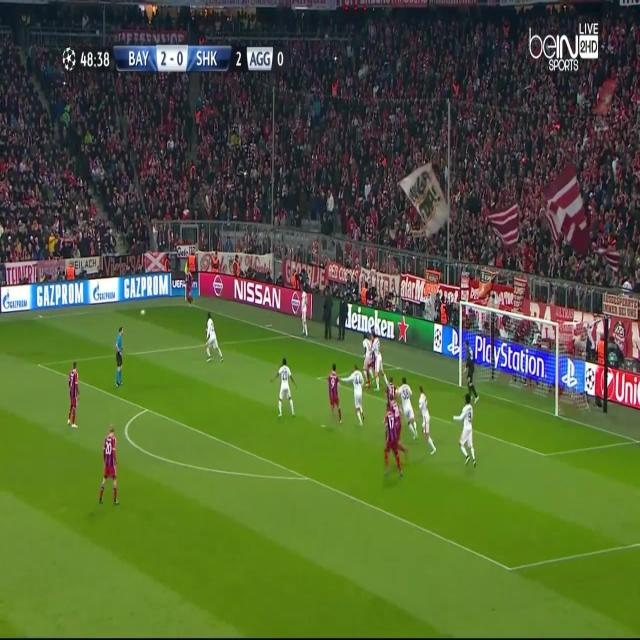Ball: (139, 306, 147, 322)
Goalkeeper: (461, 341, 482, 406)
Player: (95, 422, 123, 508), (452, 393, 478, 475), (341, 360, 369, 431), (270, 356, 300, 422), (396, 373, 422, 443), (382, 405, 403, 480), (417, 382, 437, 459), (324, 361, 346, 428), (64, 361, 84, 432), (205, 309, 225, 370), (372, 329, 388, 394), (297, 287, 310, 337), (359, 332, 371, 386), (185, 269, 196, 304)
Referee: (114, 325, 126, 395)
